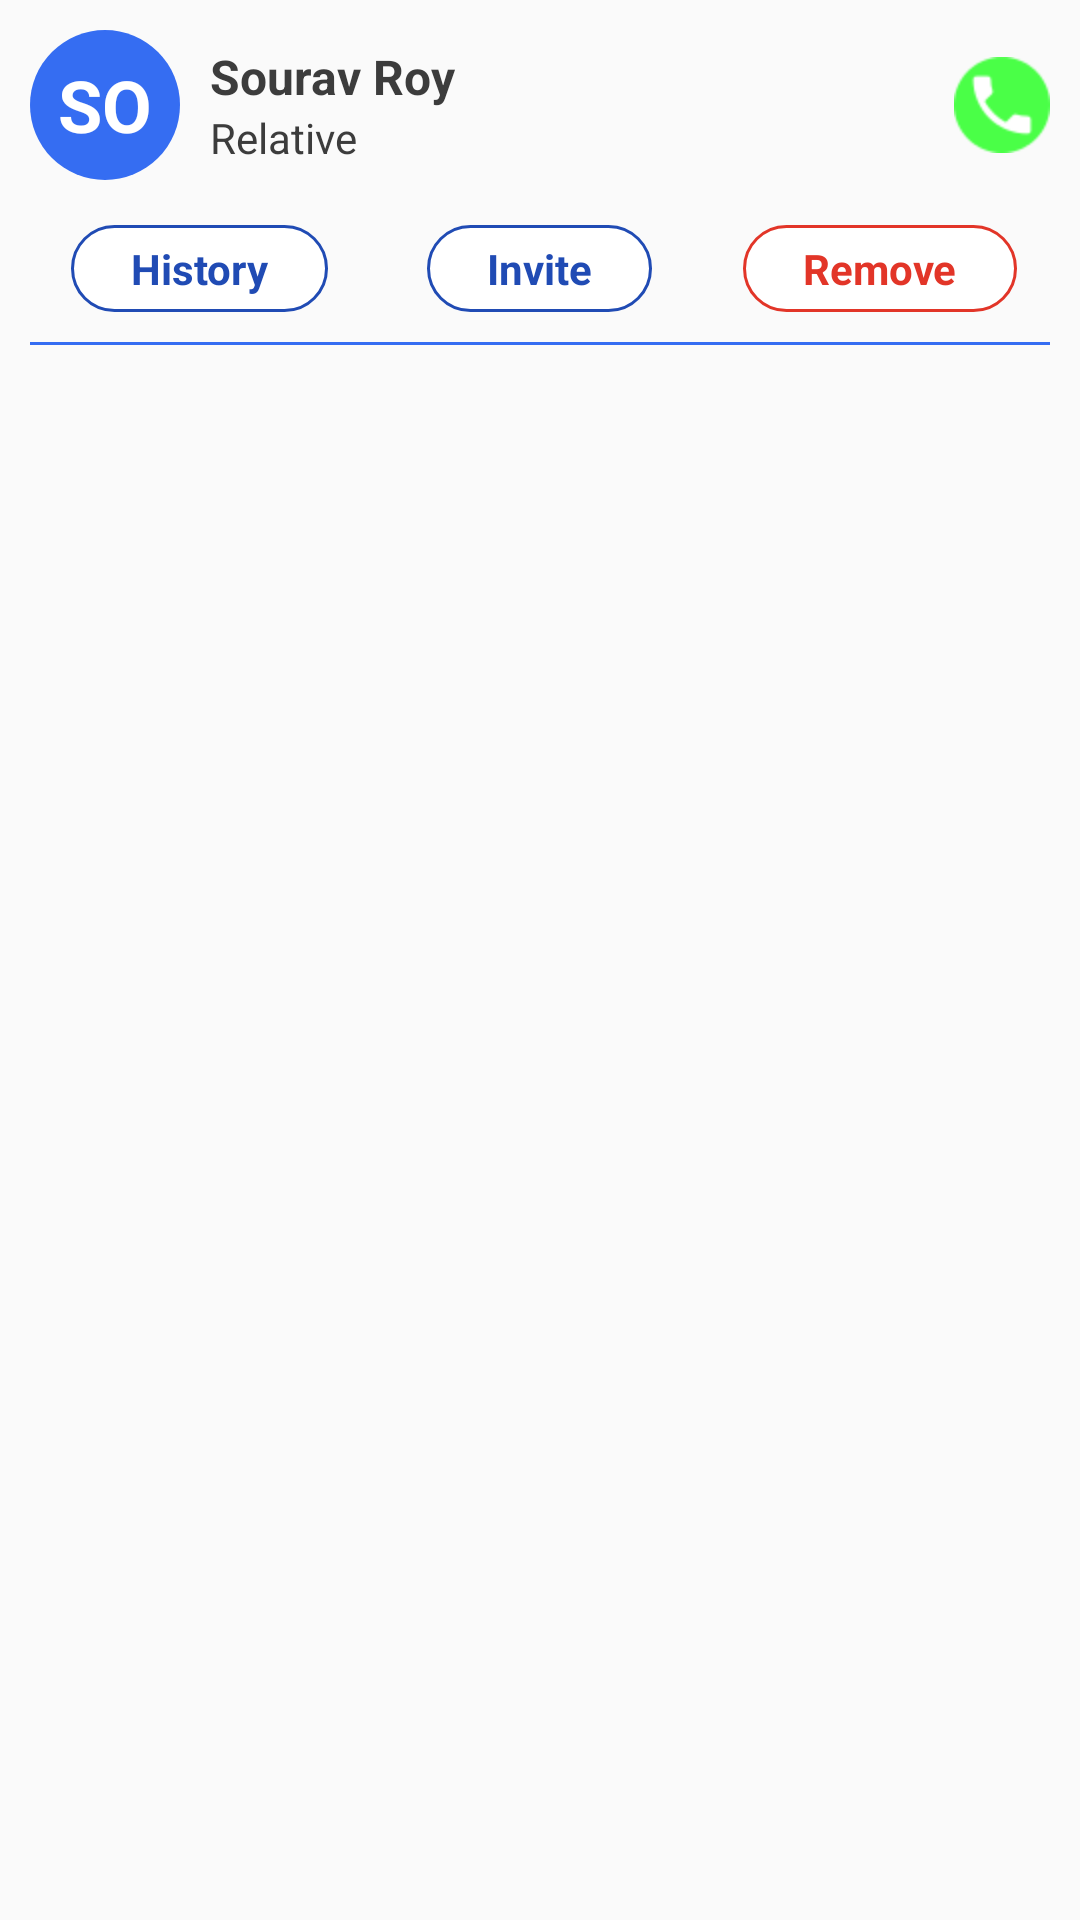

Locate icon controls on the screen. Image size 1080px x 1920px, boxes as (x1, y1, x2, y2).
phone: (954, 57, 1050, 153)
